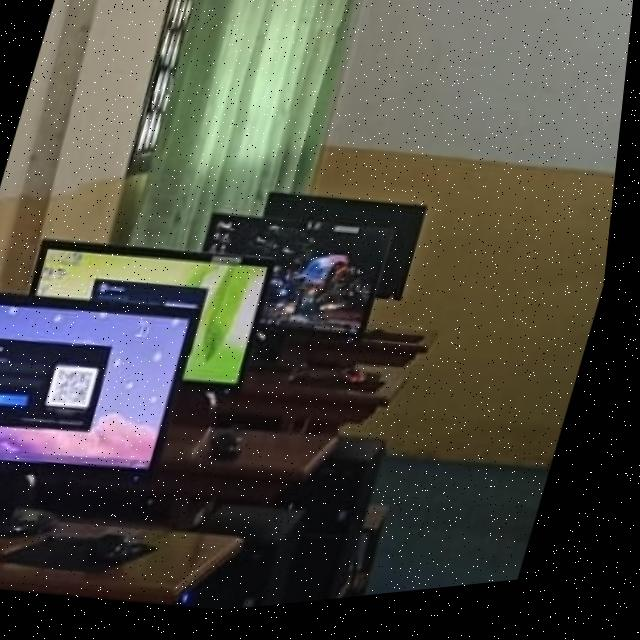offscreen: (270, 201, 430, 309)
onscreen: (0, 295, 206, 477), (38, 242, 276, 391), (213, 220, 398, 342)
